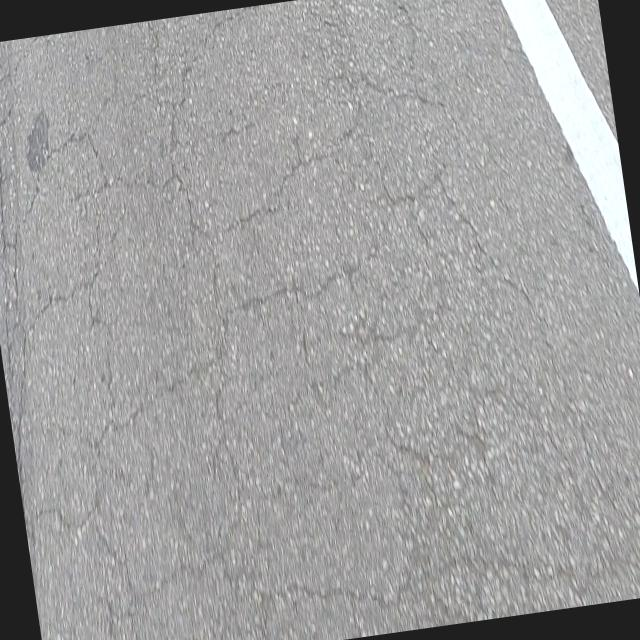Retak-Buaya: (13, 0, 640, 640)
Retak-Memanjang: (0, 56, 9, 258)
